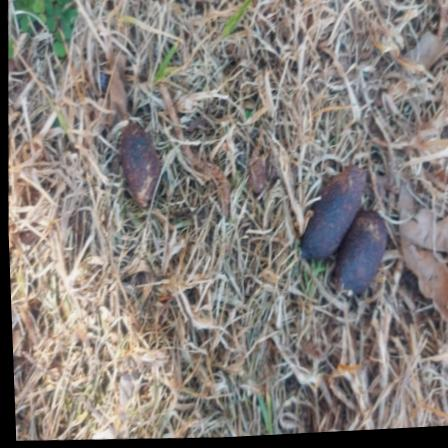dog-poop: (283, 169, 415, 295), (103, 113, 184, 200)
